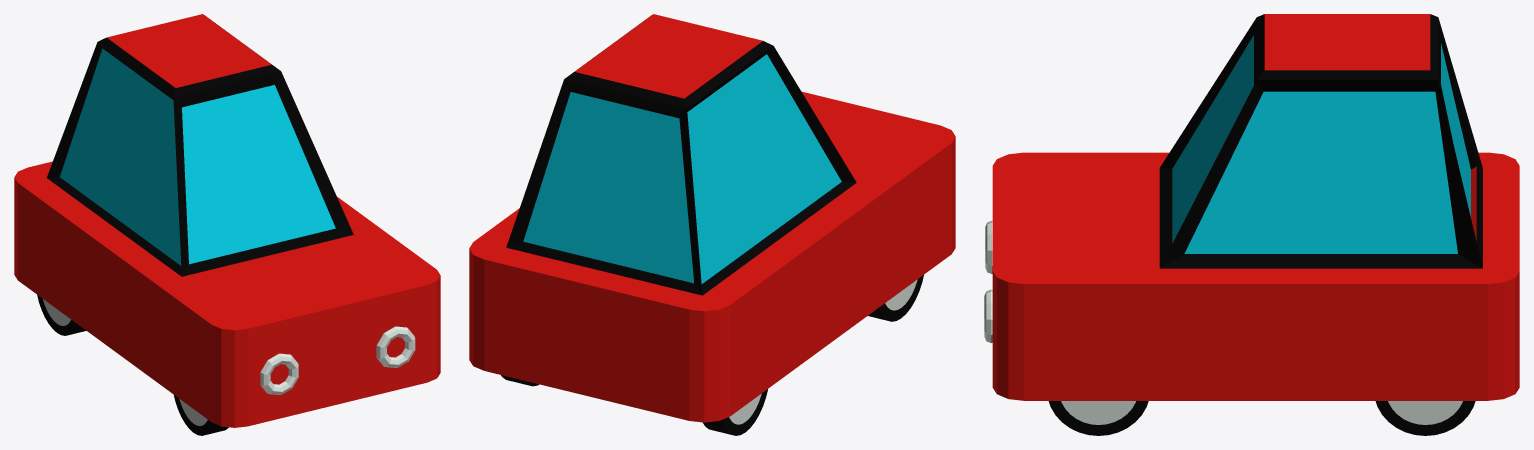
The model's file is Car Model.fbx.
3 renders of one model, left to right at view 1: azimuth 30°, elevation 25°; view 2: azimuth 150°, elevation 25°; view 3: azimuth 270°, elevation 25°, orthographic. The views are drawn at different scales.
Parts seen in each view (by area): view 1: Cube, Circle, Circle.002; view 2: Cube, Circle.002, Circle; view 3: Cube, Circle.001, Circle.003.
Boxes of the visible parts, <box> form: Cube: <box>14,14,440,427</box>; Circle: <box>174,395,228,435</box>; Circle.002: <box>37,295,86,335</box>; Cube: <box>469,14,955,422</box>; Circle.002: <box>702,389,767,435</box>; Circle: <box>868,275,923,321</box>; Cube: <box>984,14,1519,400</box>; Circle.001: <box>1048,401,1148,435</box>; Circle.003: <box>1375,401,1475,435</box>.
Bounding box in the file's own units: 102 × 121 × 175.
Materials: 1 (1 with a texture image).
